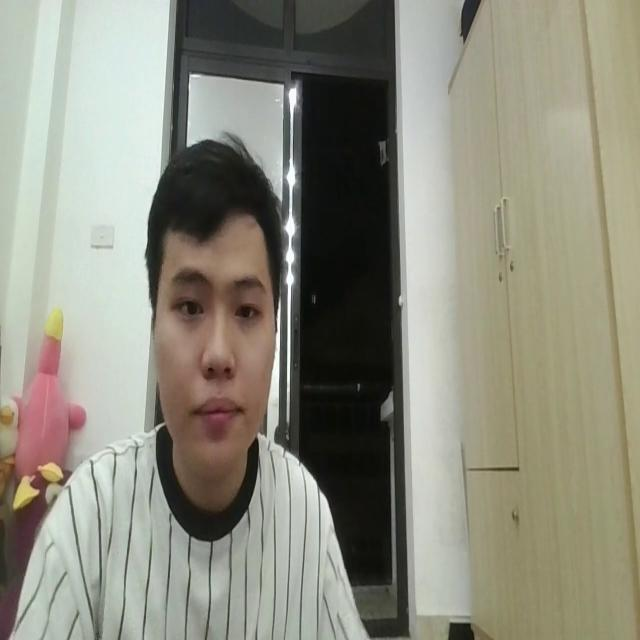student: (0, 133, 367, 640)
